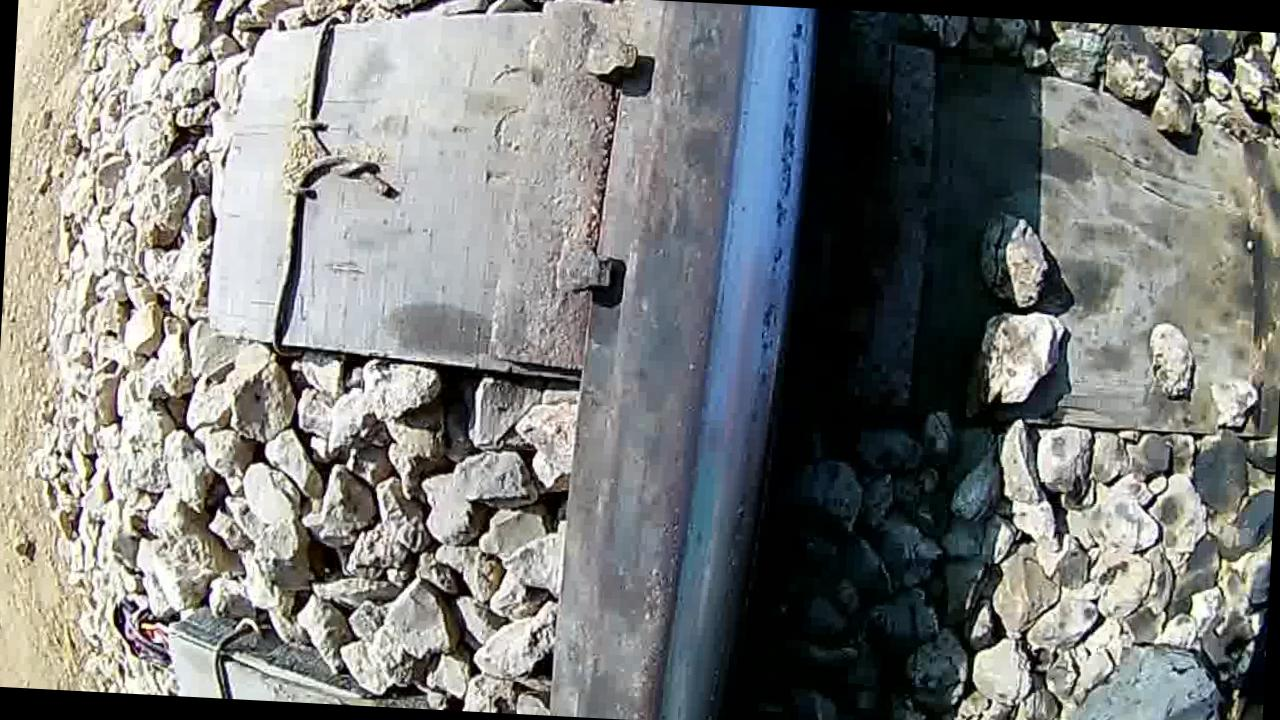crack: (607, 3, 815, 720)
